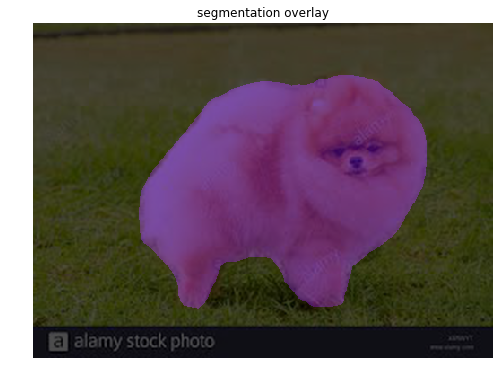unlabelled: (36, 27, 489, 351)
